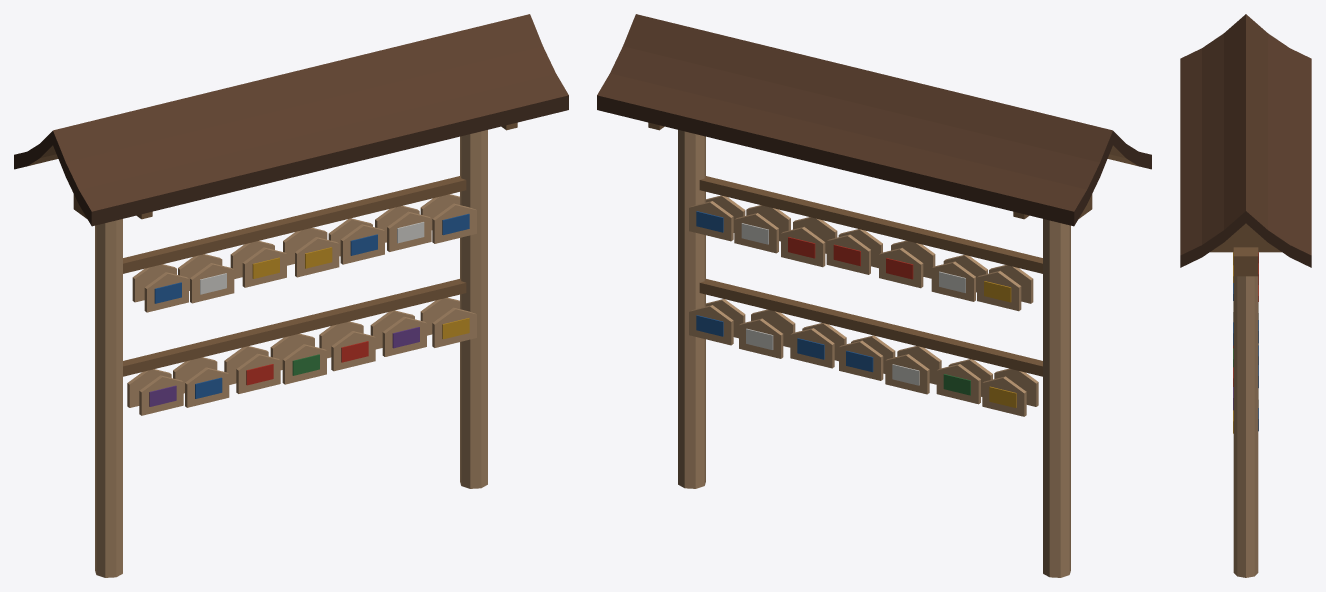
File: Shrine_Ema.fbx
The picture shows the model from 3 angles, left to right: view 1: azimuth 30°, elevation 25°; view 2: azimuth 150°, elevation 25°; view 3: azimuth 270°, elevation 25°; orthographic projection. The views are drawn at different scales.
Visible parts, largest first — view 1: Shrine_Ema; view 2: Shrine_Ema; view 3: Shrine_Ema.
Part boxes in pixels (box(x1,y1,x2,y2)): Shrine_Ema: box(14, 14, 568, 577); Shrine_Ema: box(597, 14, 1151, 577); Shrine_Ema: box(1180, 14, 1311, 577).
Size of the model in its own units: 17 by 15.5 by 4.8.
